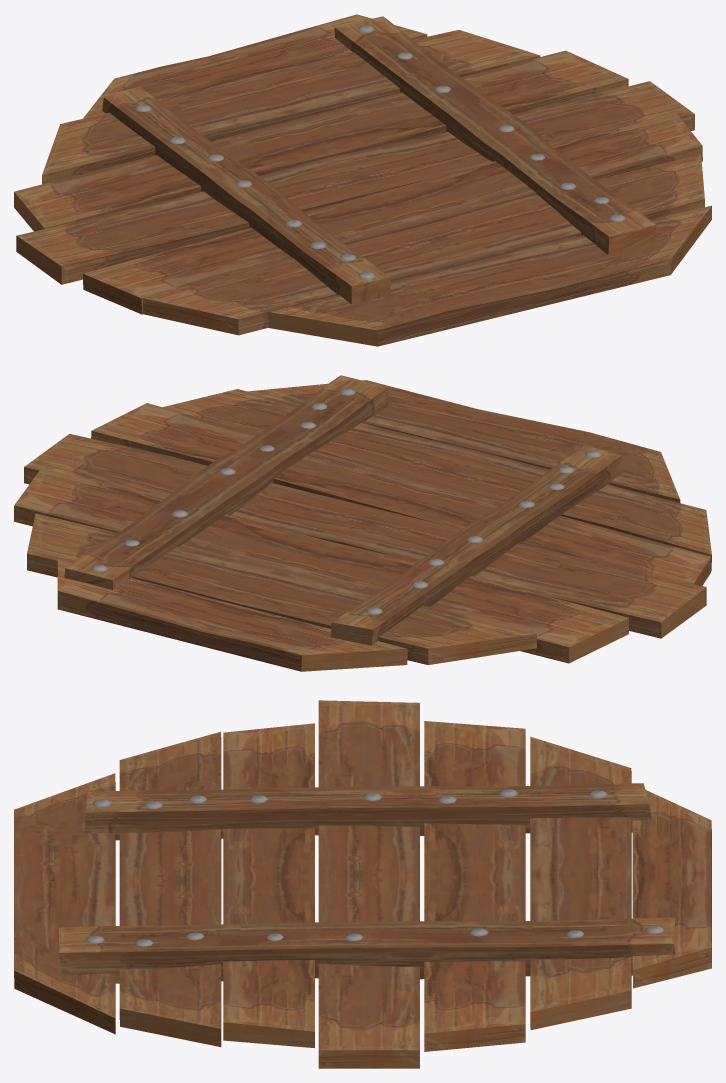
Rendered from SM_Farm_Well_Lid.fbx.
The picture shows the model from 3 angles, top to bottom: view 1: azimuth 30°, elevation 25°; view 2: azimuth 150°, elevation 25°; view 3: azimuth 270°, elevation 25°; orthographic projection. The views are drawn at different scales.
Visible parts, largest first — view 1: SM_Farm_Well_Lid_LOD0; view 2: SM_Farm_Well_Lid_LOD0; view 3: SM_Farm_Well_Lid_LOD0.
Part boxes in pixels (box(x1,y1,x2,y2)): SM_Farm_Well_Lid_LOD0: box(14, 14, 711, 346); SM_Farm_Well_Lid_LOD0: box(14, 375, 711, 671); SM_Farm_Well_Lid_LOD0: box(14, 700, 711, 1068).
Size of the model in its own units: 212 by 15.33 by 180.
